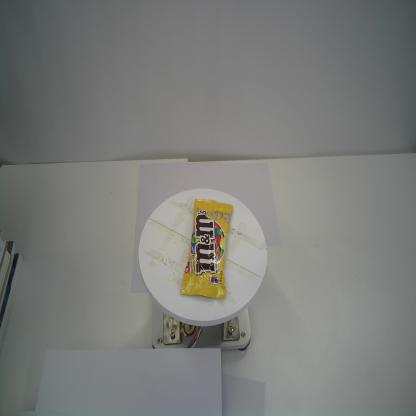Chocolate: (180, 198, 234, 300)
